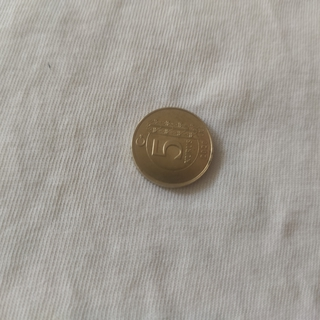5KURUS: (129, 104, 214, 190)
